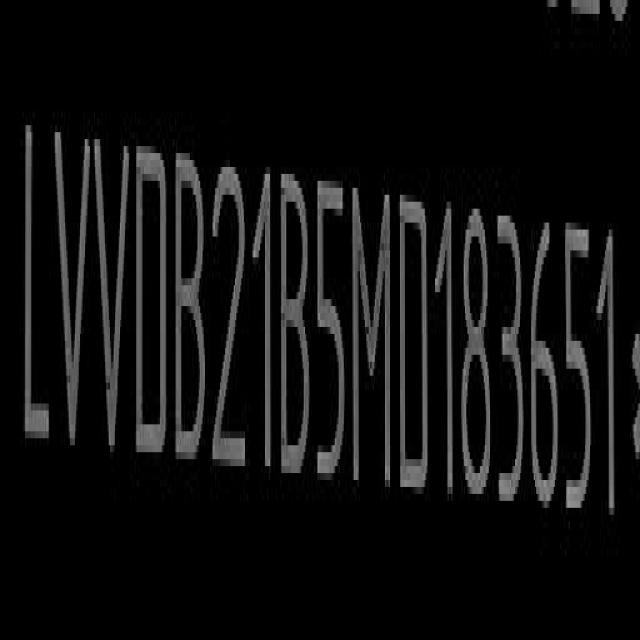1: (255, 168, 276, 478), (434, 194, 454, 502), (601, 219, 618, 526)
2: (213, 165, 249, 476)
5: (318, 171, 347, 482), (498, 206, 526, 508), (566, 214, 592, 515)
6: (530, 211, 559, 509)
8: (460, 204, 490, 508)
B: (177, 152, 209, 469), (283, 167, 314, 481)
D: (134, 138, 168, 464), (398, 188, 429, 496)
L: (20, 116, 50, 459)
M: (351, 178, 391, 490)
V: (95, 126, 132, 459), (53, 126, 90, 456)
